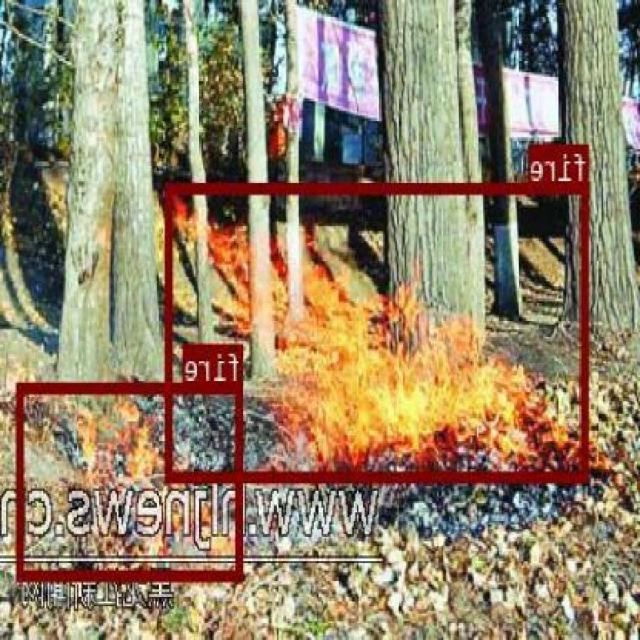Fire: (167, 180, 590, 480), (18, 382, 245, 580)
